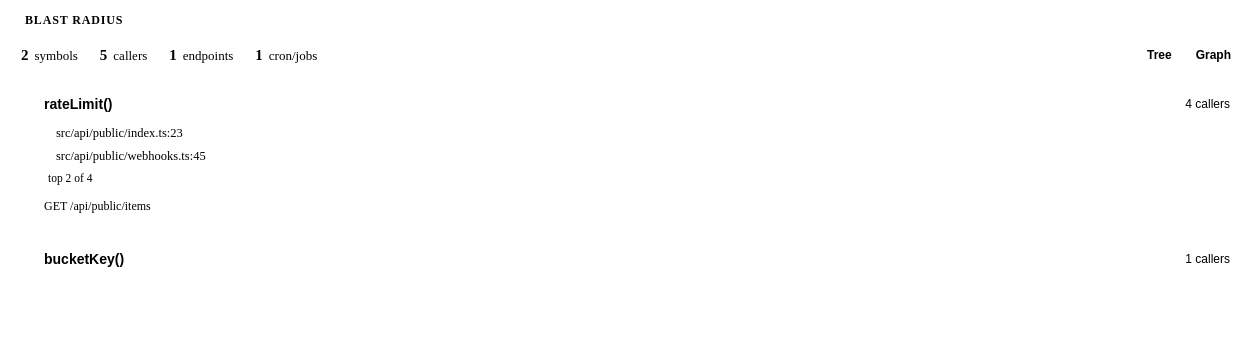
it: BlastRadiusCard — the map › expands a collapsed symbol on click
The image size is (1259, 346).
What coordinates should you click on to do the following:
click the button "bucketKey() 1 callers"
I would click on:
 (79, 259)
Its box is [16,241,1242,277].
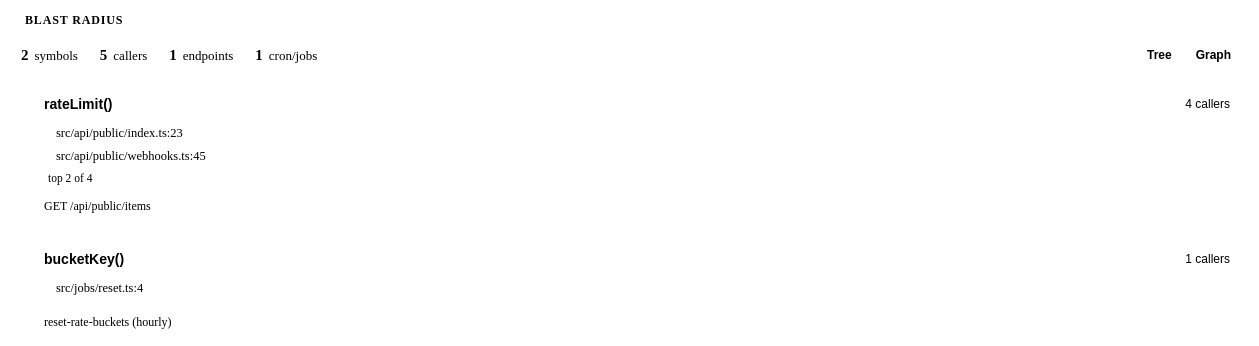
Expected: the text "src/jobs/reset.ts:4" is shown, [56,281,143,296]
